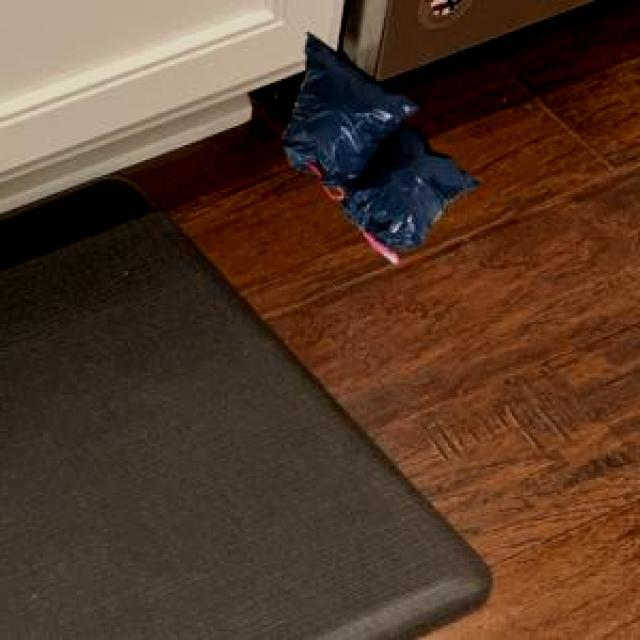Trashbag: (269, 52, 408, 174), (352, 144, 479, 256)
